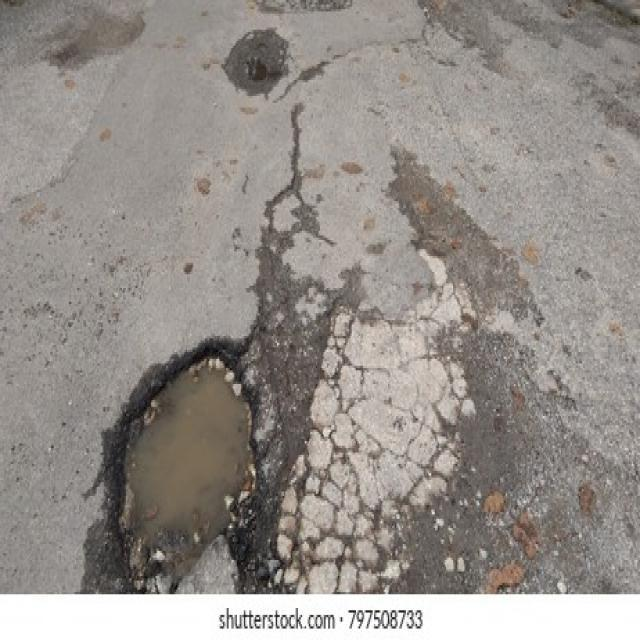Pothole: (102, 336, 260, 594), (234, 46, 273, 84)
